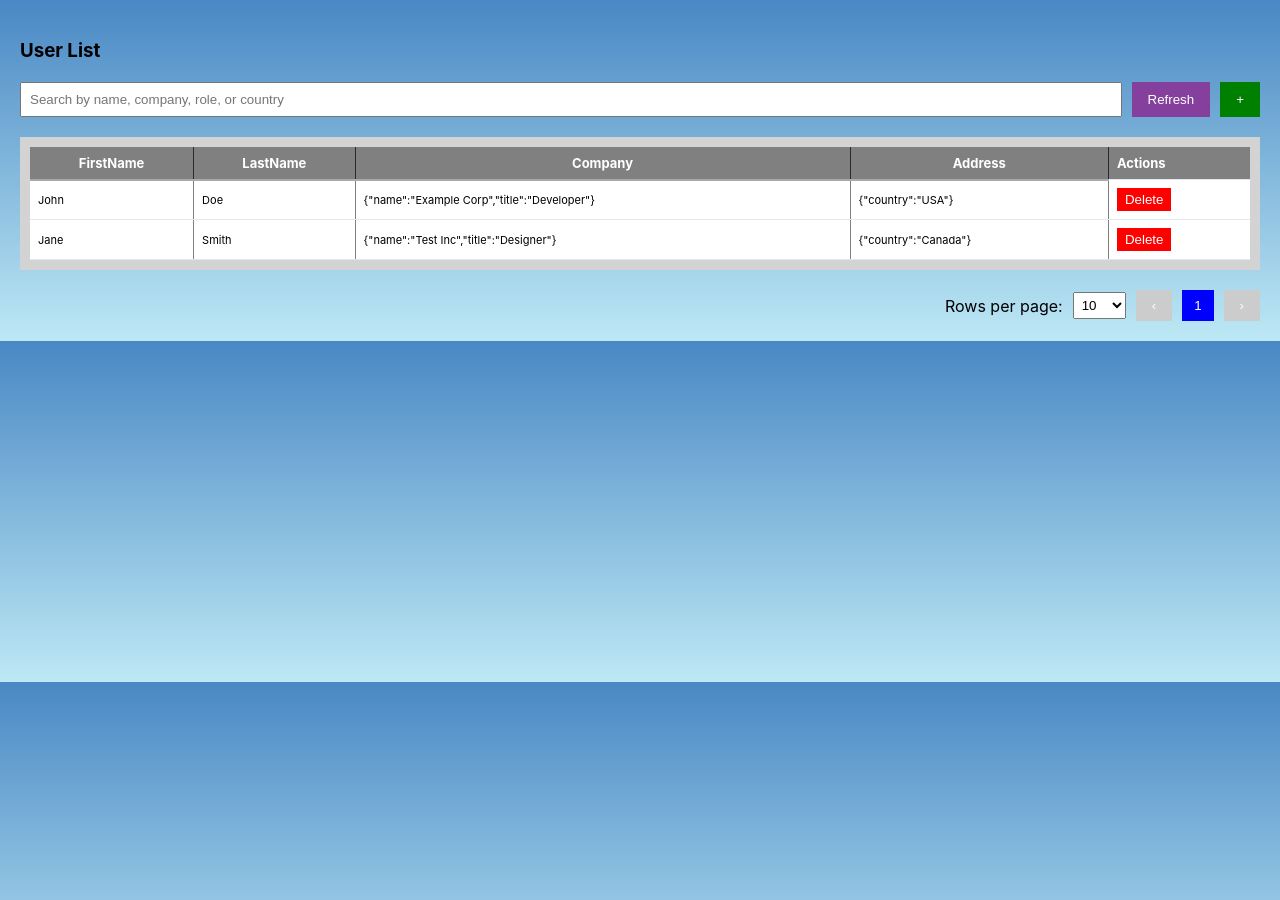
Test: deletes a user when delete button is clicked
The image size is (1280, 900).
Check: the text "John" is shown, box [30, 180, 194, 220]
Click the button "Delete" in the row of "John".
click(1144, 200)  # box [1117, 188, 1171, 211]
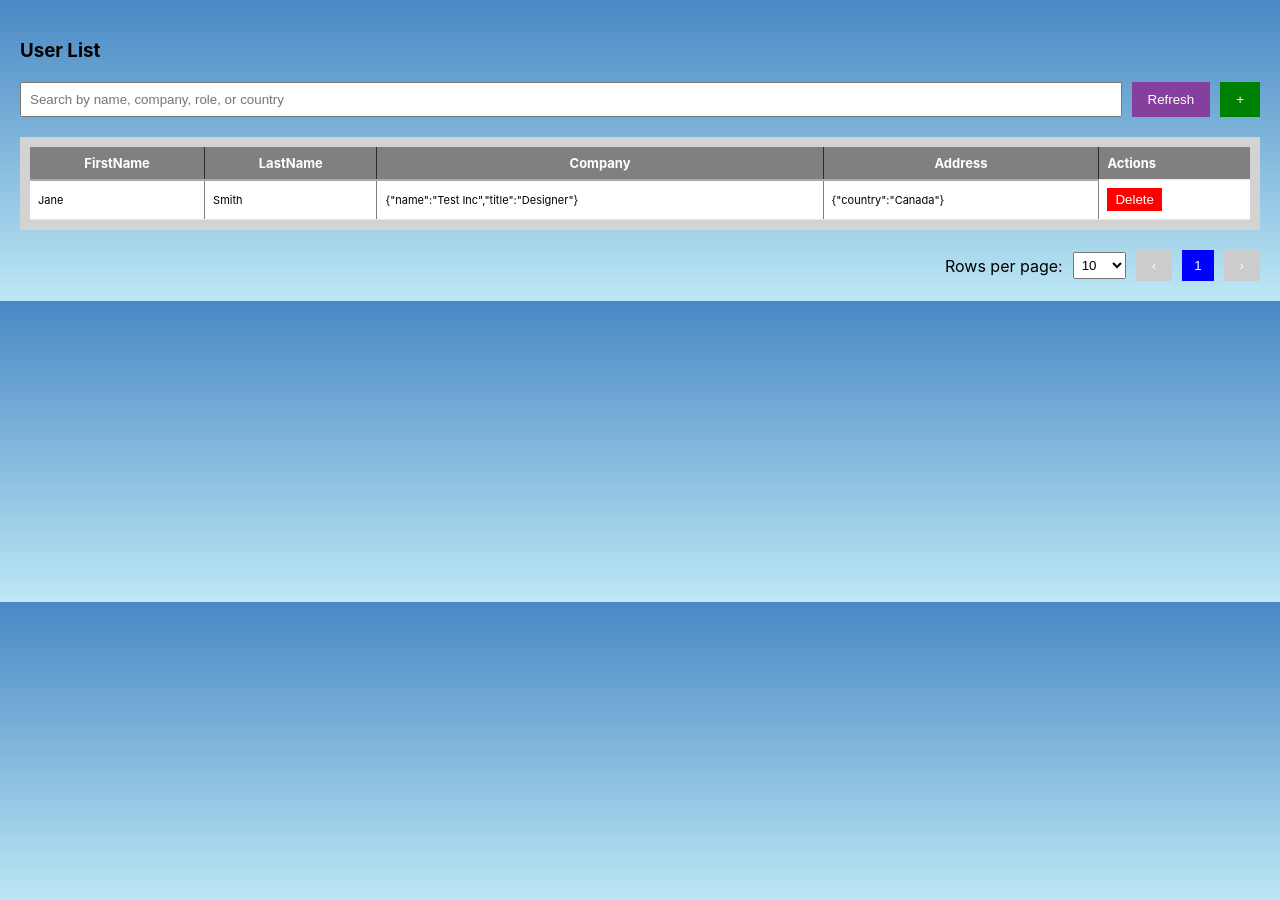
Check: the text "John" is gone
